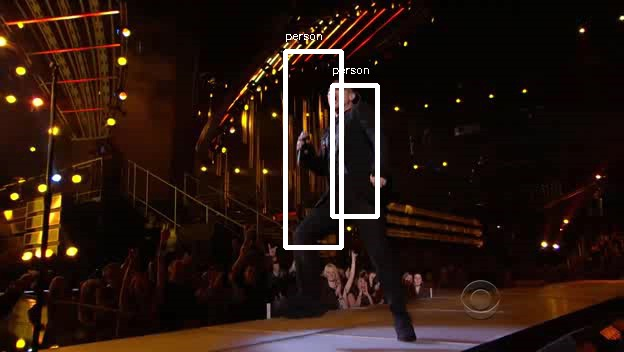person: (306, 80, 376, 230), (303, 80, 373, 230), (309, 80, 379, 230), (306, 77, 376, 227), (306, 83, 376, 233)
target_negative: (146, 51, 565, 299), (232, 167, 419, 314), (235, 269, 286, 290), (524, 98, 528, 335), (79, 271, 88, 319), (228, 284, 331, 287)
